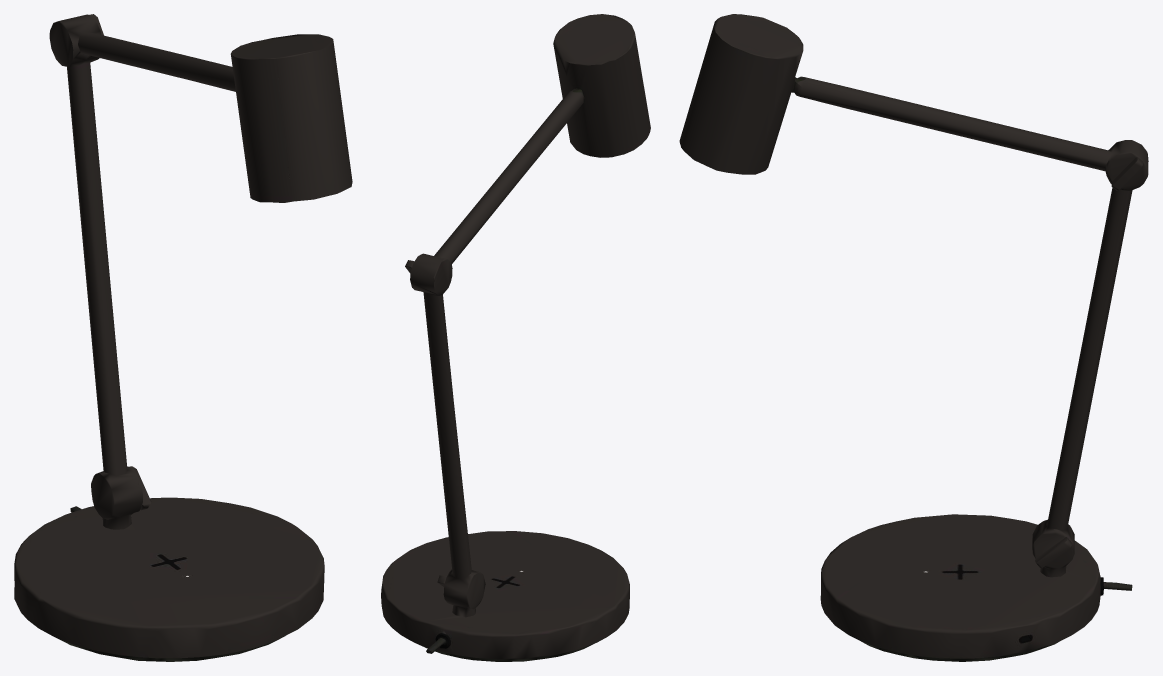
File: nymane_lampa_biurkowa_z_adow_indukcyjna_90477743.glb
3 views of the same model, side by side, from view 1: azimuth 30°, elevation 25°; view 2: azimuth 150°, elevation 25°; view 3: azimuth 270°, elevation 25° (orthographic). The views are drawn at different scales.
Visible parts, largest first — view 1: nymane_lampa_biurkowa_z_adow_indukcyjna_90477743; view 2: nymane_lampa_biurkowa_z_adow_indukcyjna_90477743; view 3: nymane_lampa_biurkowa_z_adow_indukcyjna_90477743.
Boxes of the visible parts, box(x1,y1,x2,y2) form: nymane_lampa_biurkowa_z_adow_indukcyjna_90477743: box(14, 14, 352, 661); nymane_lampa_biurkowa_z_adow_indukcyjna_90477743: box(381, 14, 650, 661); nymane_lampa_biurkowa_z_adow_indukcyjna_90477743: box(679, 14, 1148, 661).
Bounding box in the file's own units: 0.2098 × 0.4834 × 0.3525.
1 material, 1 textured.
